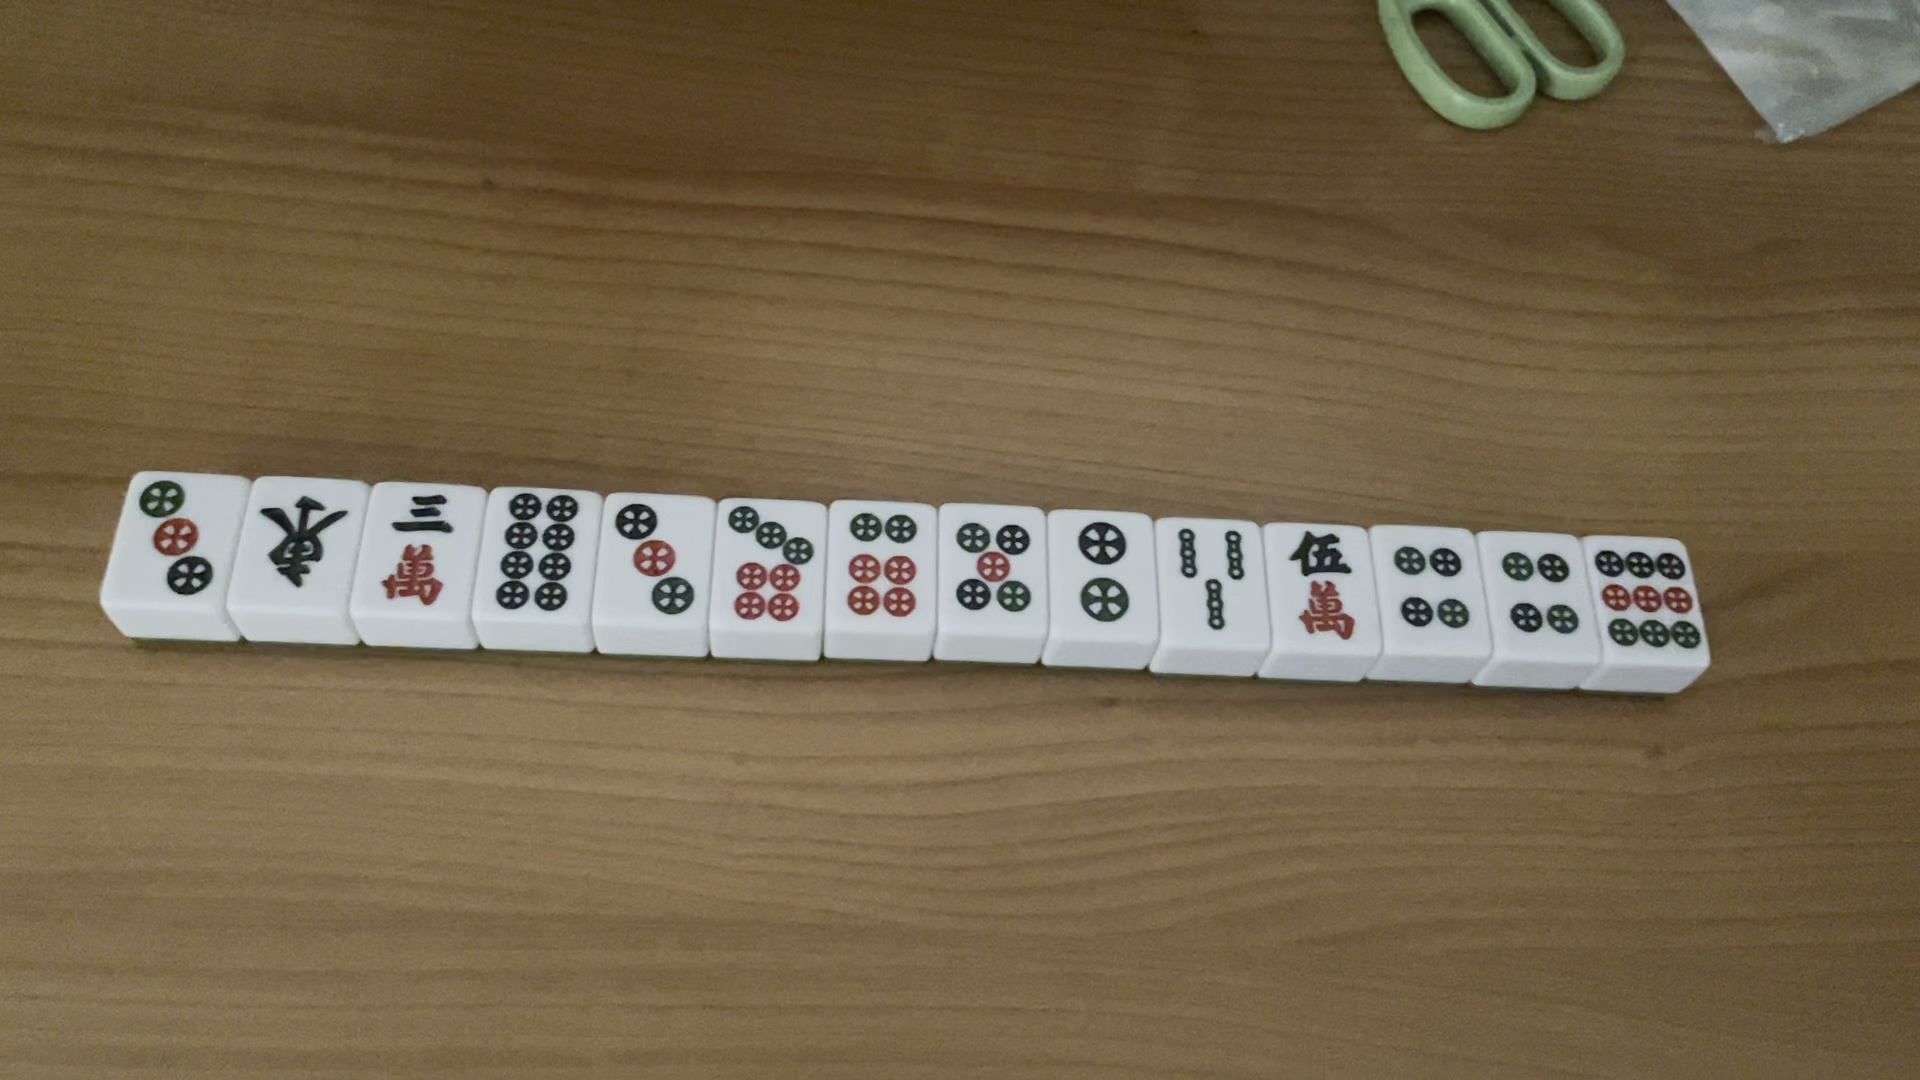b-3: (1167, 524, 1251, 633)
c-3: (373, 489, 460, 615)
c-5: (1288, 527, 1362, 644)
d-2: (1067, 516, 1135, 630)
d-3: (611, 501, 702, 620), (135, 476, 218, 604)
d-4: (1497, 541, 1584, 650), (1385, 535, 1474, 640)
d-5: (948, 514, 1036, 617)
d-6: (839, 512, 923, 617)
d-7: (720, 502, 818, 625)
d-8: (491, 489, 585, 620)
d-9: (1593, 543, 1702, 659)
honors-east: (252, 492, 352, 595)
